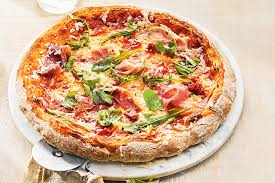pizza: (16, 10, 237, 160)
